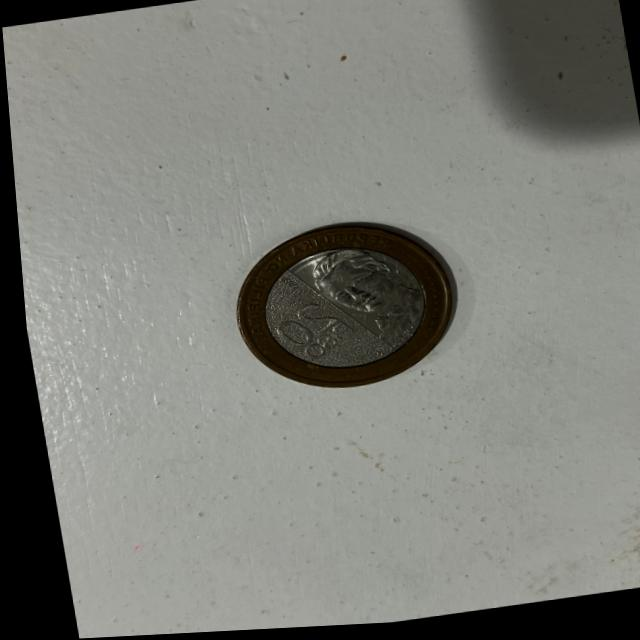20_New_Front: (268, 298, 360, 367)
